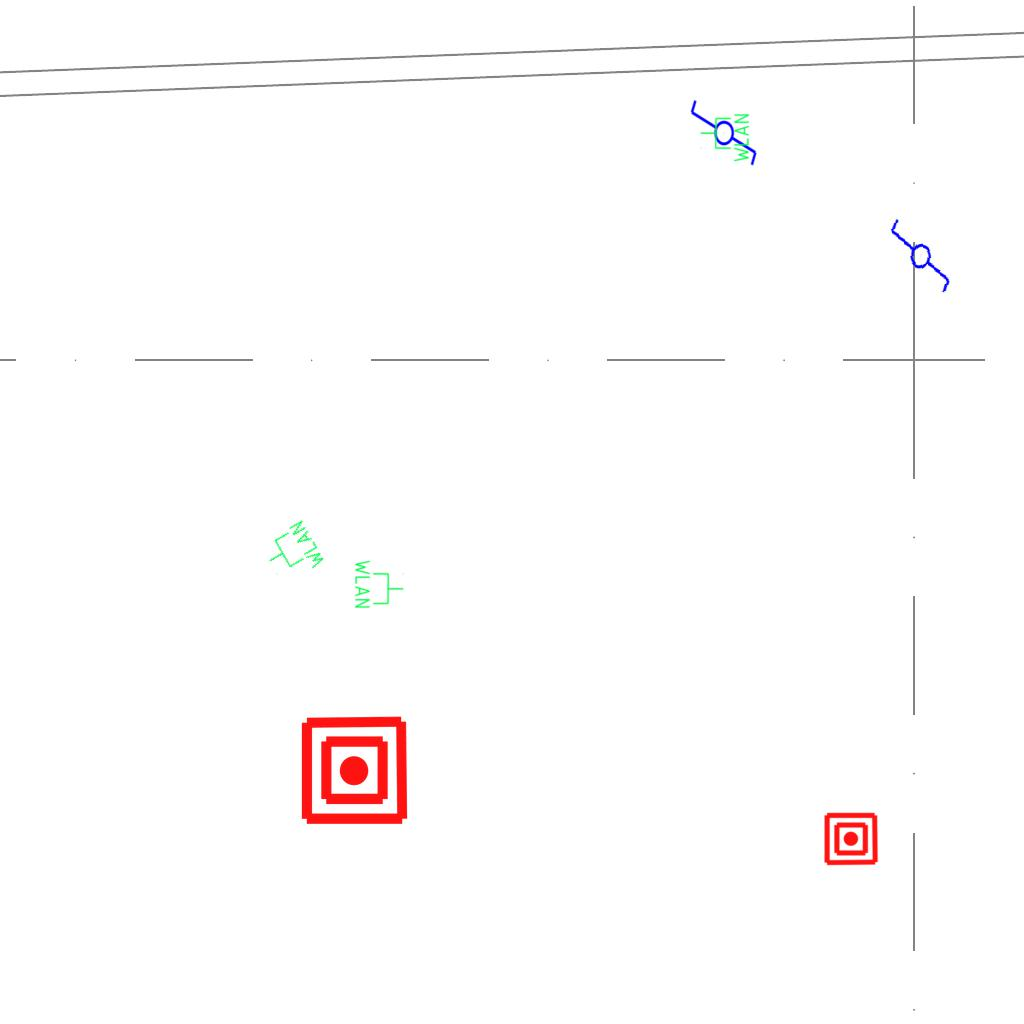NAM-Nichtautomatischer_Melder: (298, 714, 411, 827), (823, 811, 879, 867)
WLAN: (257, 517, 329, 589), (353, 558, 405, 610), (699, 112, 751, 164)
Wechselschalter: (877, 215, 961, 305), (687, 98, 759, 176)
